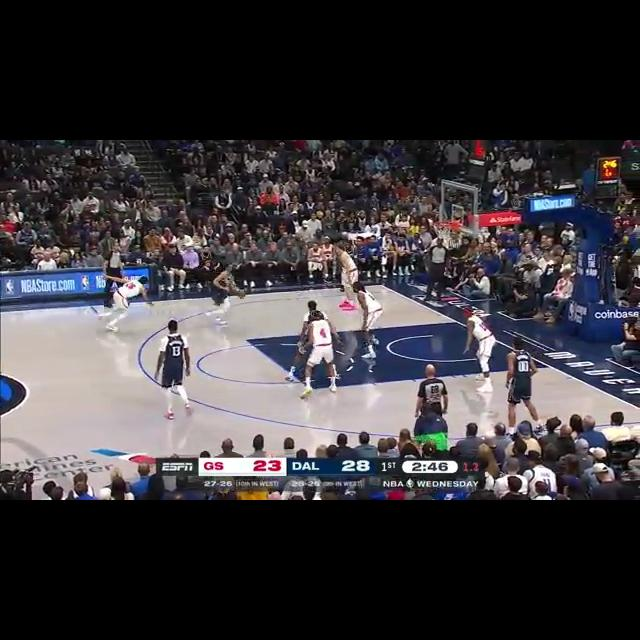Ball: (234, 286, 250, 302)
Team-1-Player: (153, 319, 200, 421), (504, 336, 540, 430), (206, 262, 248, 330)
Team-2-Player: (458, 306, 498, 396), (301, 310, 341, 396), (98, 272, 154, 332), (350, 280, 384, 362), (328, 242, 364, 312)
